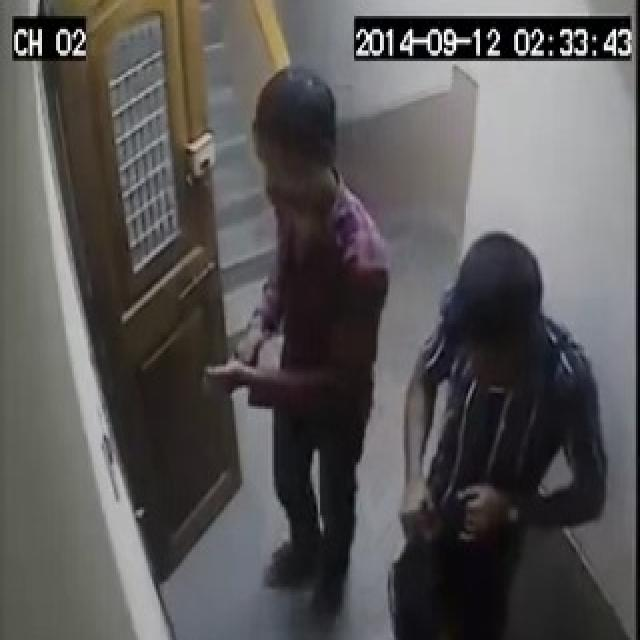burglary: (106, 297, 302, 514)
